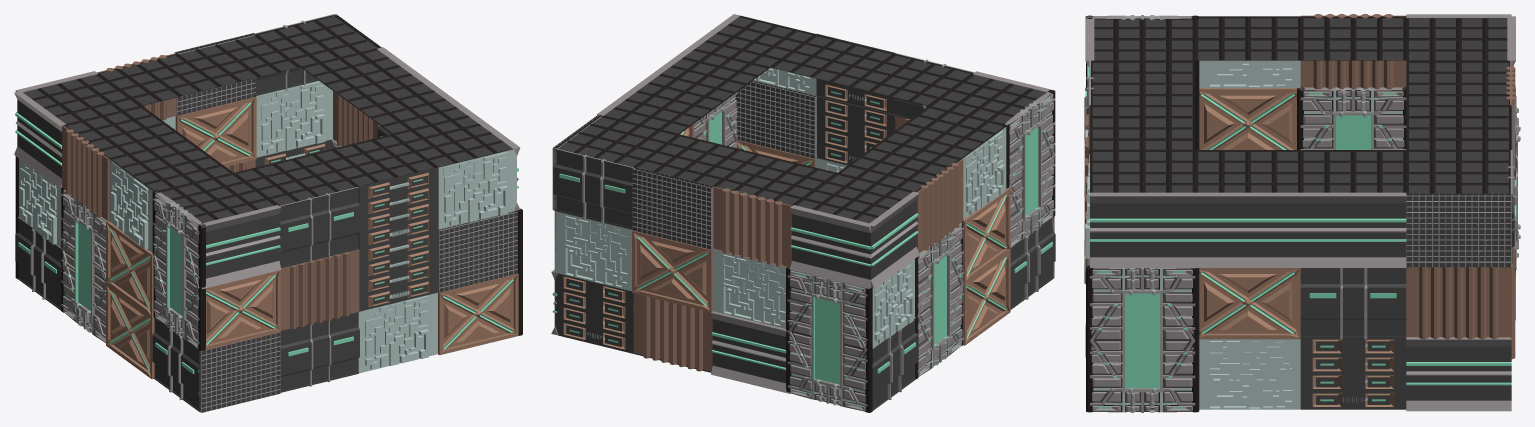
The model's file is finalRoom.fbx.
3 renders of one model, left to right at view 1: azimuth 30°, elevation 25°; view 2: azimuth 150°, elevation 25°; view 3: azimuth 270°, elevation 25°, orthographic. The views are drawn at different scales.
Parts seen in each view (by area): view 1: Plane.069; view 2: Plane.069; view 3: Plane.069.
Part boxes in pixels (<box>): Plane.069: <box>14,14,522,412</box>; Plane.069: <box>551,14,1055,412</box>; Plane.069: <box>1084,14,1520,412</box>.
Bounding box in the file's own units: 1667 × 901 × 1655.
